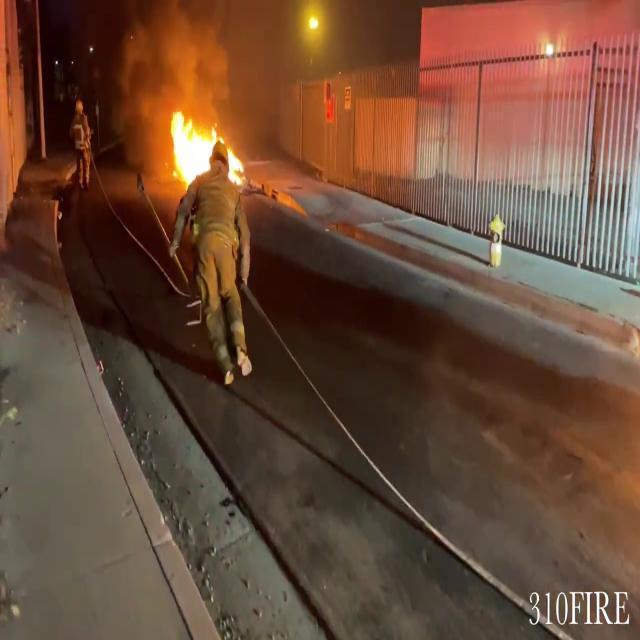Fire: (162, 104, 225, 190)
Smoke: (106, 0, 276, 143)
